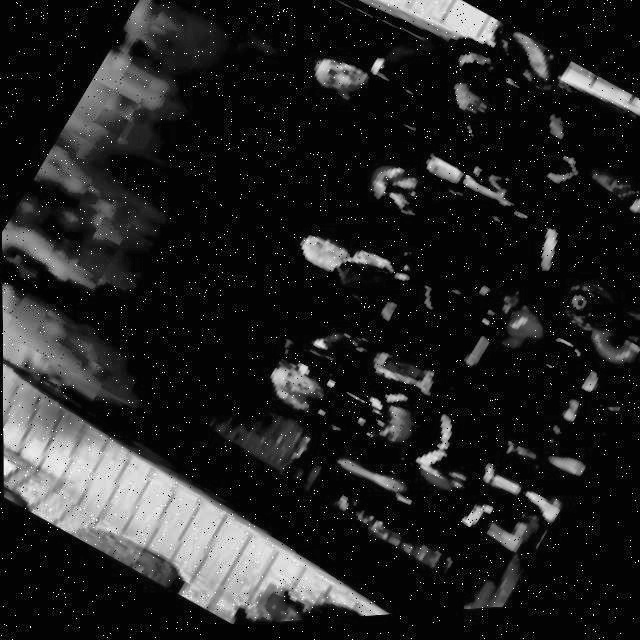Smoke: (0, 0, 427, 485)
